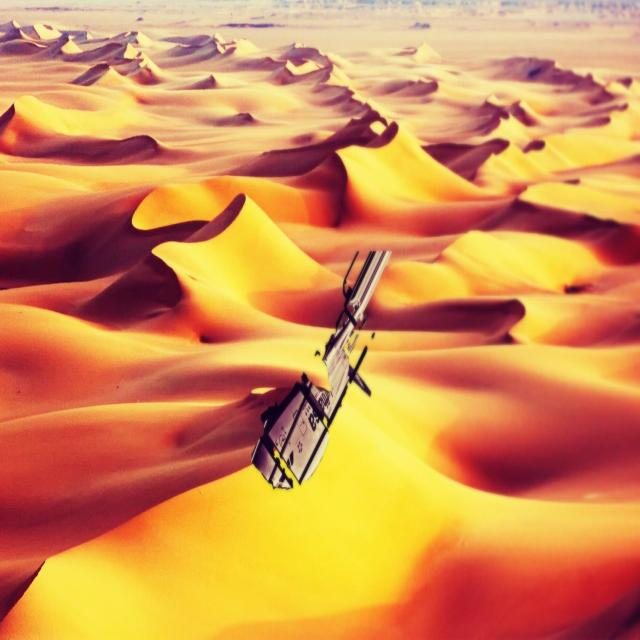airplane: (250, 247, 392, 490)
